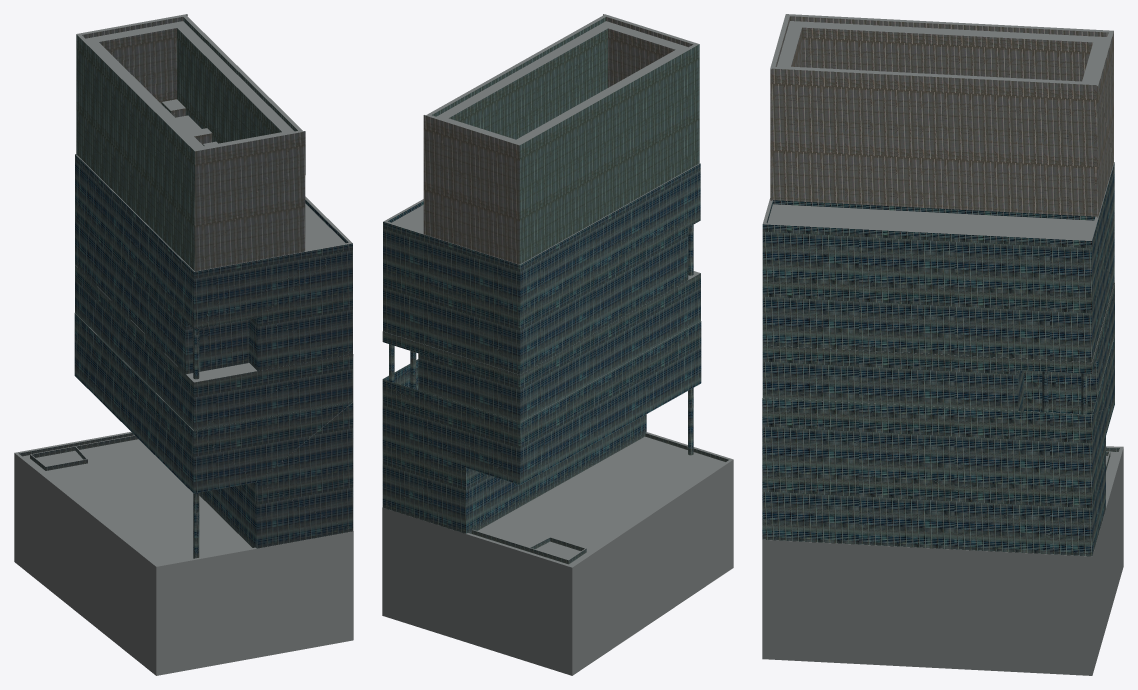
3 views of the same model, side by side, from view 1: azimuth 30°, elevation 25°; view 2: azimuth 150°, elevation 25°; view 3: azimuth 270°, elevation 25° (orthographic). The views are drawn at different scales.
Parts seen in each view (by area): view 1: ONE GEORGE STREET; view 2: ONE GEORGE STREET; view 3: ONE GEORGE STREET.
Boxes of the visible parts, x1,y1,x2,y2 form: ONE GEORGE STREET: (14, 14, 353, 675); ONE GEORGE STREET: (382, 14, 733, 675); ONE GEORGE STREET: (762, 14, 1123, 675).
Size of the model in its own units: 62.94 by 144 by 83.35.
3 materials, 2 textured.
